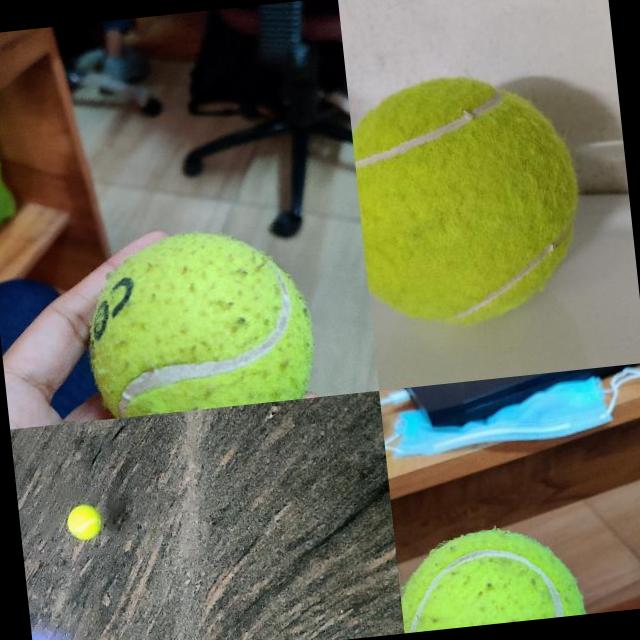Tennis Ball: (347, 61, 596, 336), (77, 219, 320, 419), (394, 518, 587, 632), (65, 503, 104, 541)
